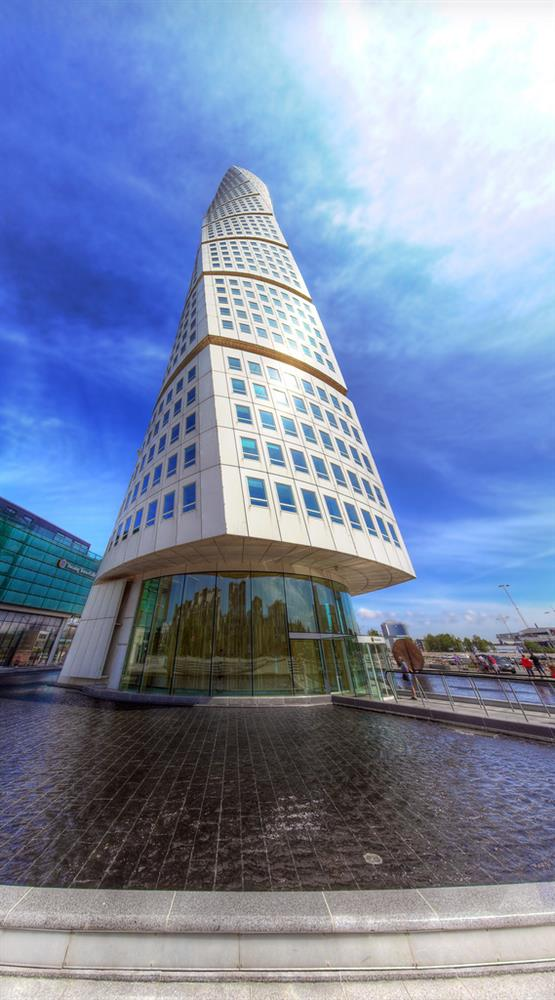turinng_torso: (73, 160, 417, 588)
